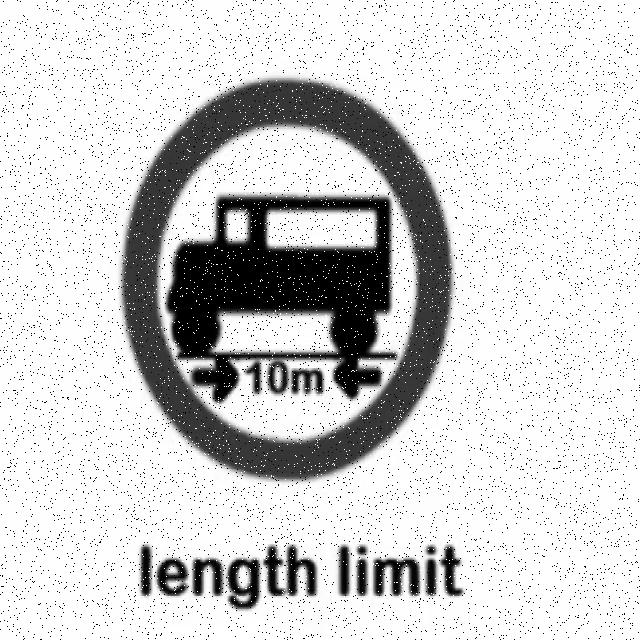length_limit: (124, 79, 451, 486)
